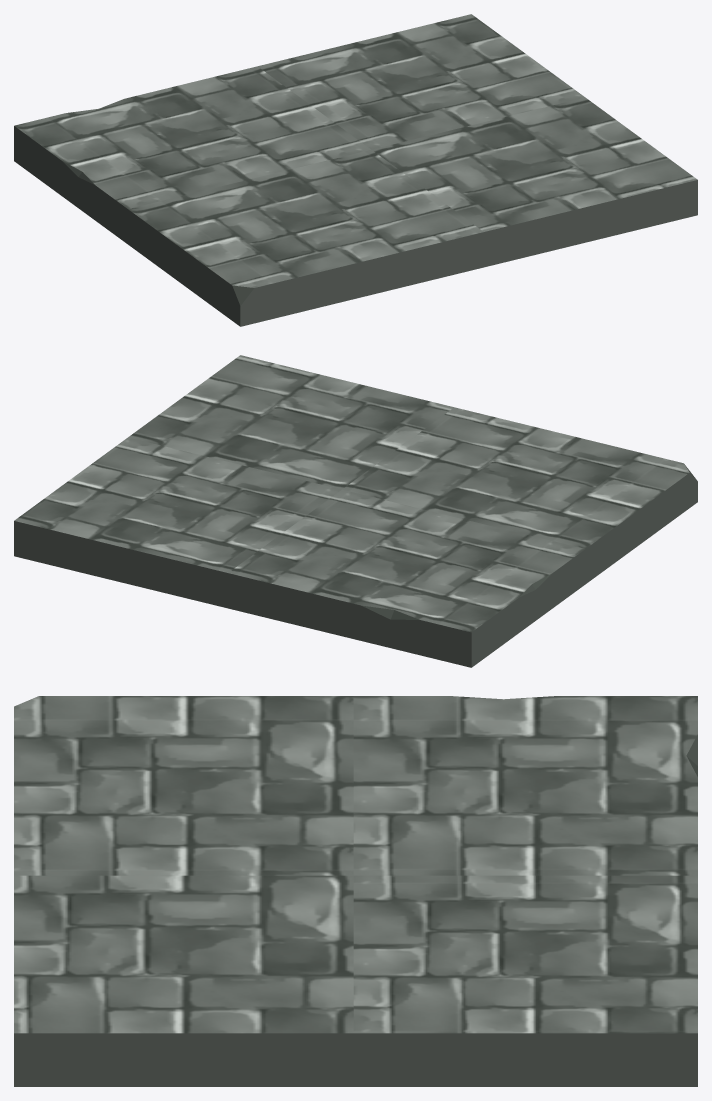
Rendered from SM_Env_Floor_01.fbx.
3 views of the same model, one above another, from view 1: azimuth 30°, elevation 25°; view 2: azimuth 150°, elevation 25°; view 3: azimuth 270°, elevation 25° (orthographic). The views are drawn at different scales.
Visible parts, largest first — view 1: SM_Env_Floor_01; view 2: SM_Env_Floor_01; view 3: SM_Env_Floor_01.
Boxes of the visible parts, <box> form: SM_Env_Floor_01: <box>14,14,697,326</box>; SM_Env_Floor_01: <box>14,355,697,667</box>; SM_Env_Floor_01: <box>14,696,697,1086</box>.
Size of the model in its own units: 832 by 61.58 by 713.
Materials: 1 (1 with a texture image).
